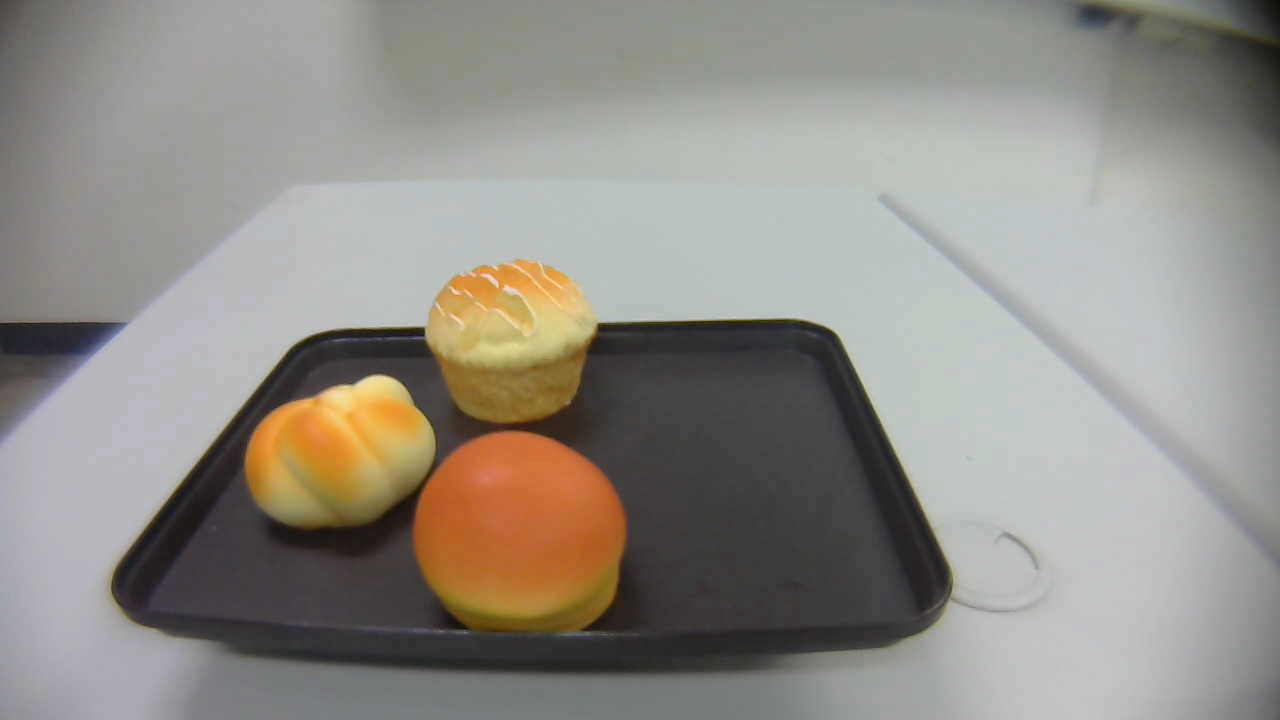bun: (411, 429, 627, 636)
cupcake: (424, 258, 598, 423)
twist bread: (244, 373, 436, 531)
